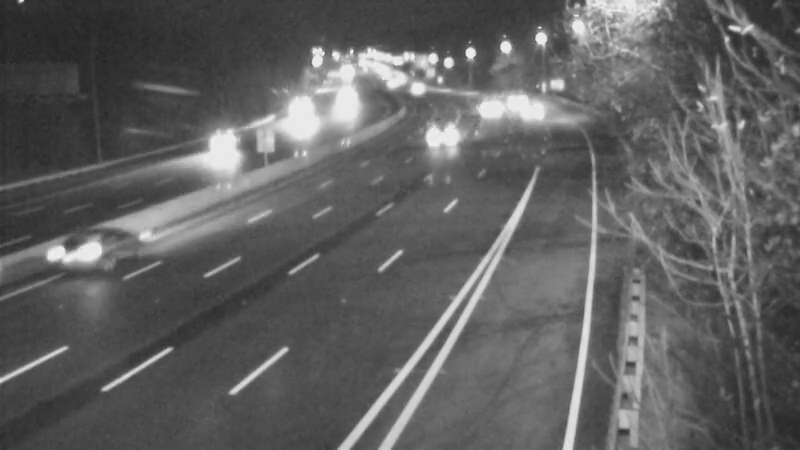vehicle: (33, 210, 113, 290), (388, 63, 438, 113), (487, 74, 537, 124), (508, 91, 558, 141), (463, 85, 513, 135), (414, 109, 464, 159), (195, 118, 245, 168), (269, 101, 319, 151), (316, 80, 366, 130)
